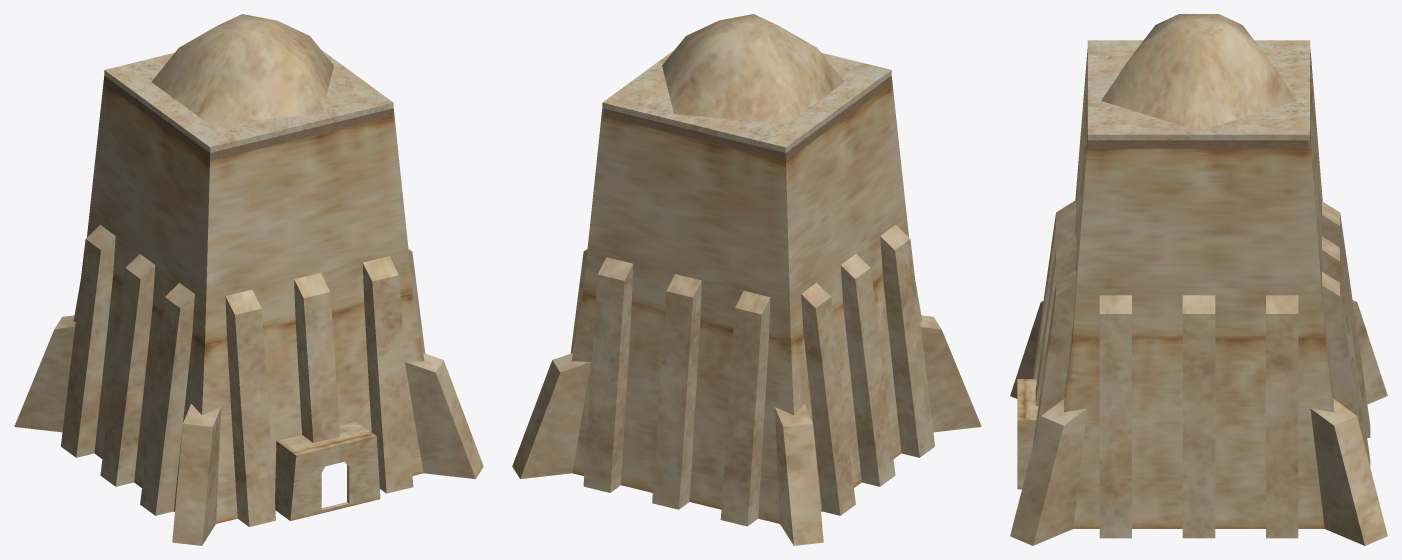
Rendered from thm_tato_imprv_building_s02_r0_mesh_l2.fbx.
3 views of the same model, side by side, from view 1: azimuth 30°, elevation 25°; view 2: azimuth 150°, elevation 25°; view 3: azimuth 270°, elevation 25° (orthographic). The views are drawn at different scales.
Visible parts, largest first — view 1: mesh_node; view 2: mesh_node; view 3: mesh_node.
Boxes of the visible parts, x1=… form: mesh_node: x1=14, y1=14, x2=483, y2=545; mesh_node: x1=512, y1=14, x2=981, y2=545; mesh_node: x1=1010, y1=14, x2=1387, y2=545.
Size of the model in its own units: 22.7 by 29.53 by 22.7.
Materials: 1 (1 with a texture image).
